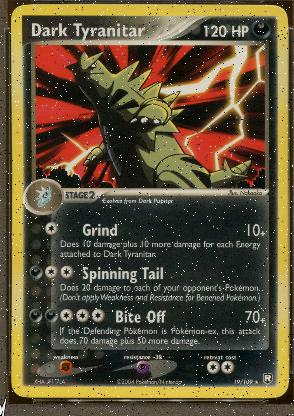Card: (9, 3, 289, 399)
